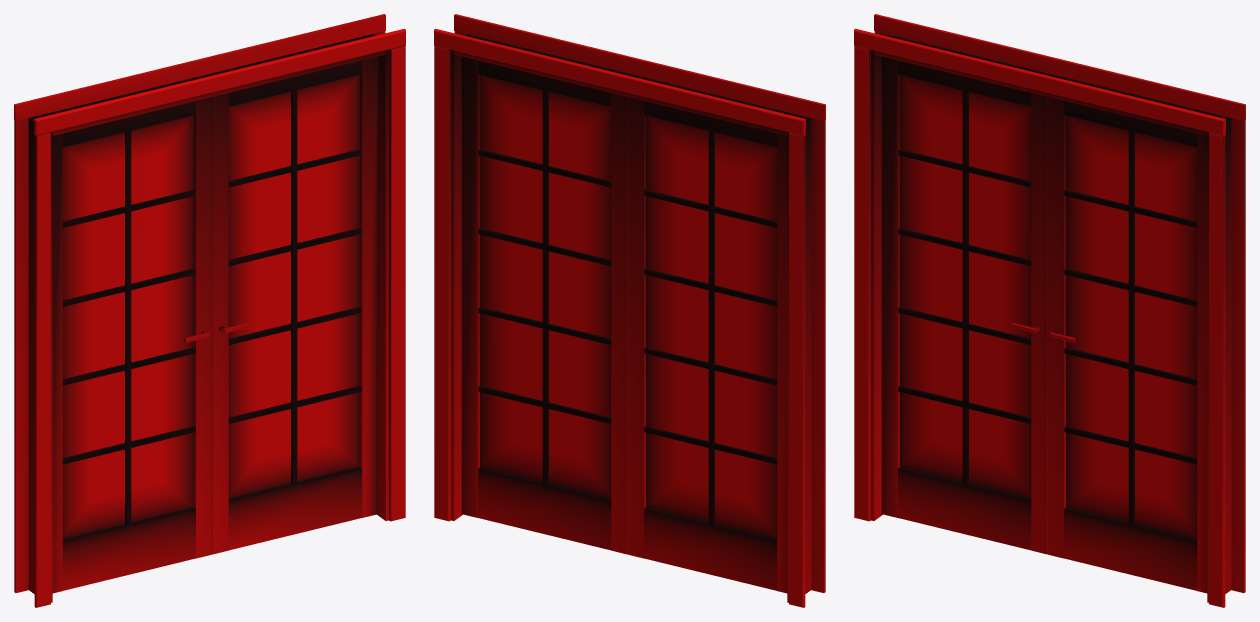
The model's file is CI_Shell_Door_French.glb.
3 renders of one model, left to right at view 1: azimuth 30°, elevation 25°; view 2: azimuth 150°, elevation 25°; view 3: azimuth 330°, elevation 25°, orthographic.
Parts seen in each view (by area): view 1: CI_Shell_Door_French; view 2: CI_Shell_Door_French; view 3: CI_Shell_Door_French.
Part boxes in pixels (x1,y1,x2,y2): CI_Shell_Door_French: [14, 14, 405, 607]; CI_Shell_Door_French: [434, 14, 825, 607]; CI_Shell_Door_French: [854, 14, 1245, 607].
Bounding box in the file's own units: 1.72 × 2.17 × 0.186.
